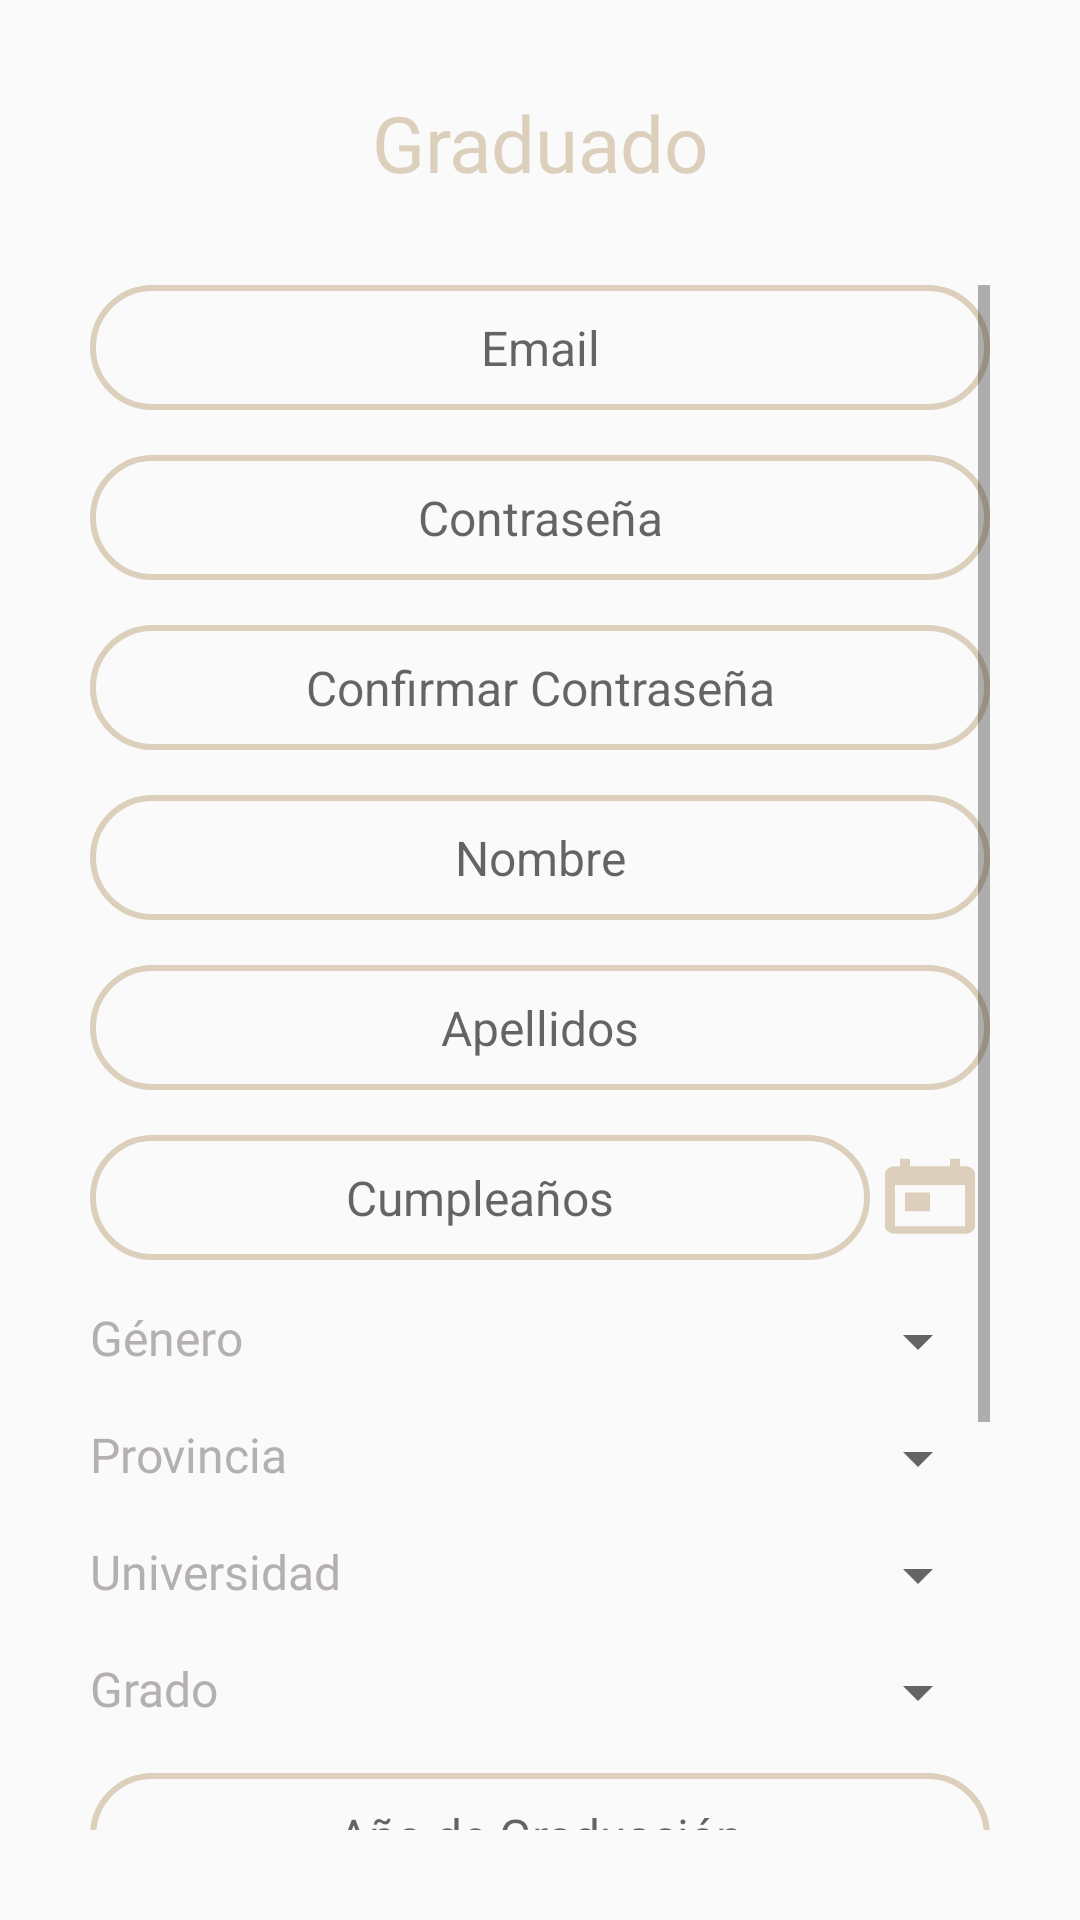

Screen size 1080w x 1920h. Icon name, then its center in pixels as point (x, y):
calendar: point (930, 1196)
